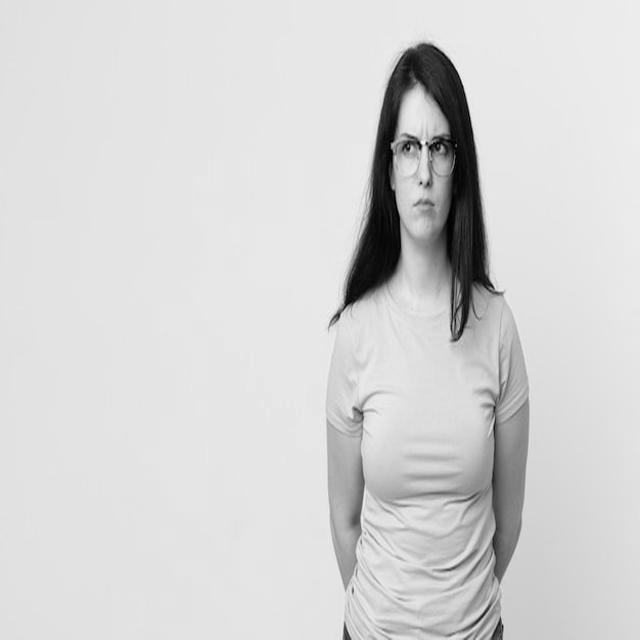Angry: (394, 87, 452, 240)
